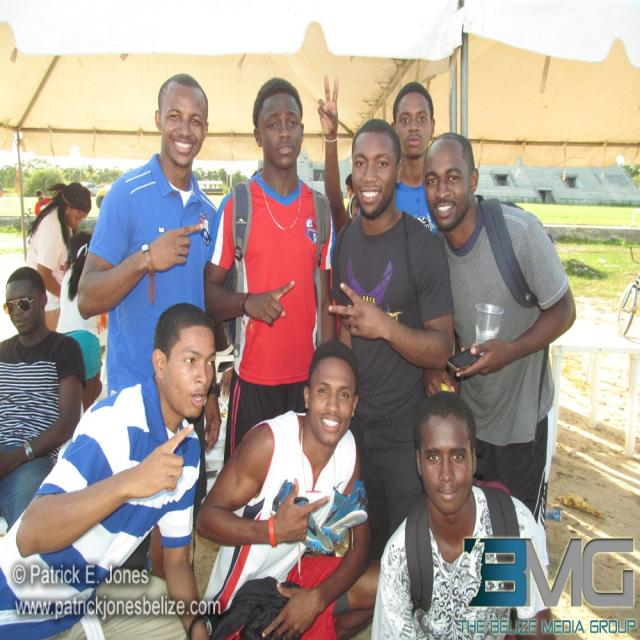body: (0, 298, 218, 639), (76, 73, 218, 569), (419, 130, 579, 538), (326, 117, 457, 560), (192, 339, 382, 640), (201, 75, 340, 481), (363, 385, 565, 639), (0, 265, 87, 535), (356, 81, 461, 236), (53, 229, 105, 416), (23, 180, 94, 313), (316, 67, 360, 244), (216, 341, 238, 401), (33, 188, 53, 218), (96, 182, 111, 212)
